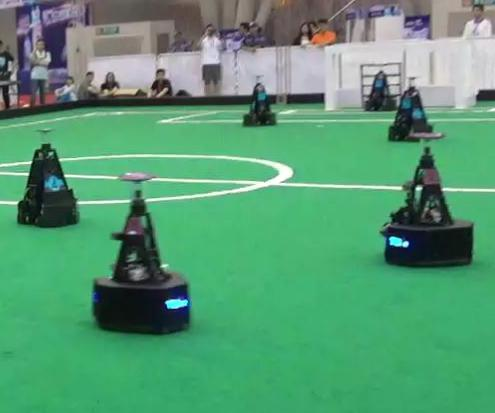robot: (91, 171, 192, 335), (382, 129, 474, 265), (17, 126, 83, 229), (387, 75, 442, 148), (242, 73, 277, 126)
